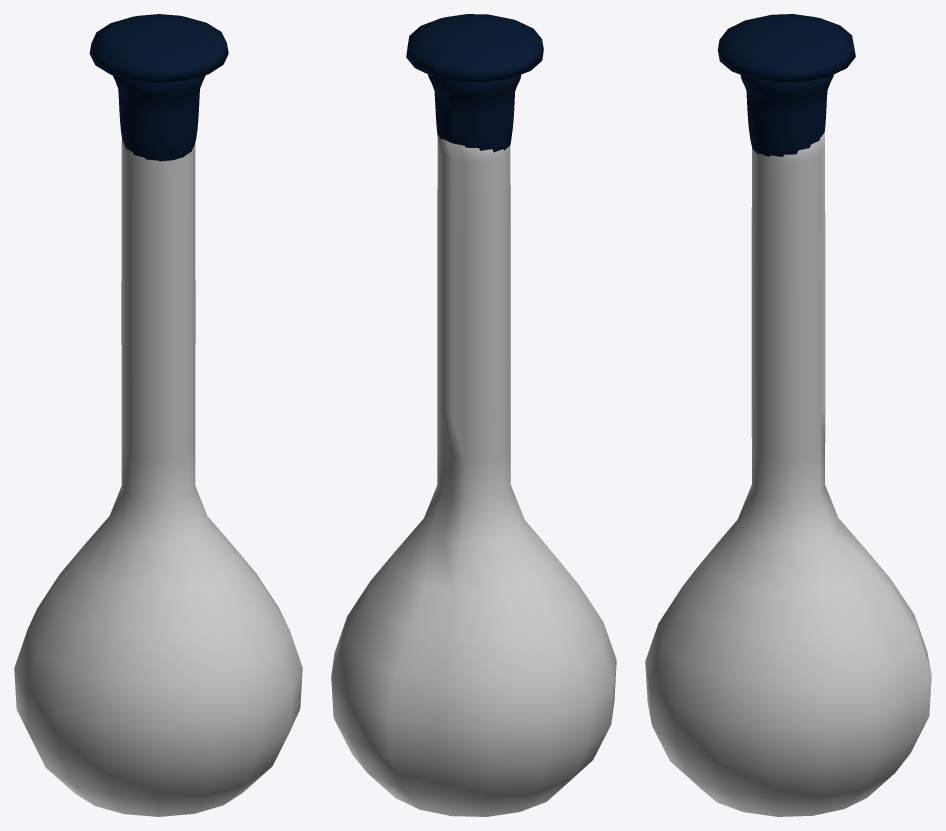
The model's file is cylinder_volumetric flask.fbx.
The picture shows the model from 3 angles, left to right: view 1: azimuth 30°, elevation 25°; view 2: azimuth 150°, elevation 25°; view 3: azimuth 270°, elevation 25°; orthographic projection.
Visible parts, largest first — view 1: cylinder_volumetric flask, cylinder_volumetric flask_cover; view 2: cylinder_volumetric flask, cylinder_volumetric flask_cover; view 3: cylinder_volumetric flask, cylinder_volumetric flask_cover.
Part boxes in pixels (box(x1,y1,x2,y2)): cylinder_volumetric flask: box(14, 139, 302, 816); cylinder_volumetric flask_cover: box(89, 14, 228, 161); cylinder_volumetric flask: box(331, 135, 616, 816); cylinder_volumetric flask_cover: box(406, 14, 543, 152); cylinder_volumetric flask: box(645, 133, 931, 816); cylinder_volumetric flask_cover: box(717, 14, 855, 156).
Bounding box in the file's own units: 574 × 1698 × 574.
